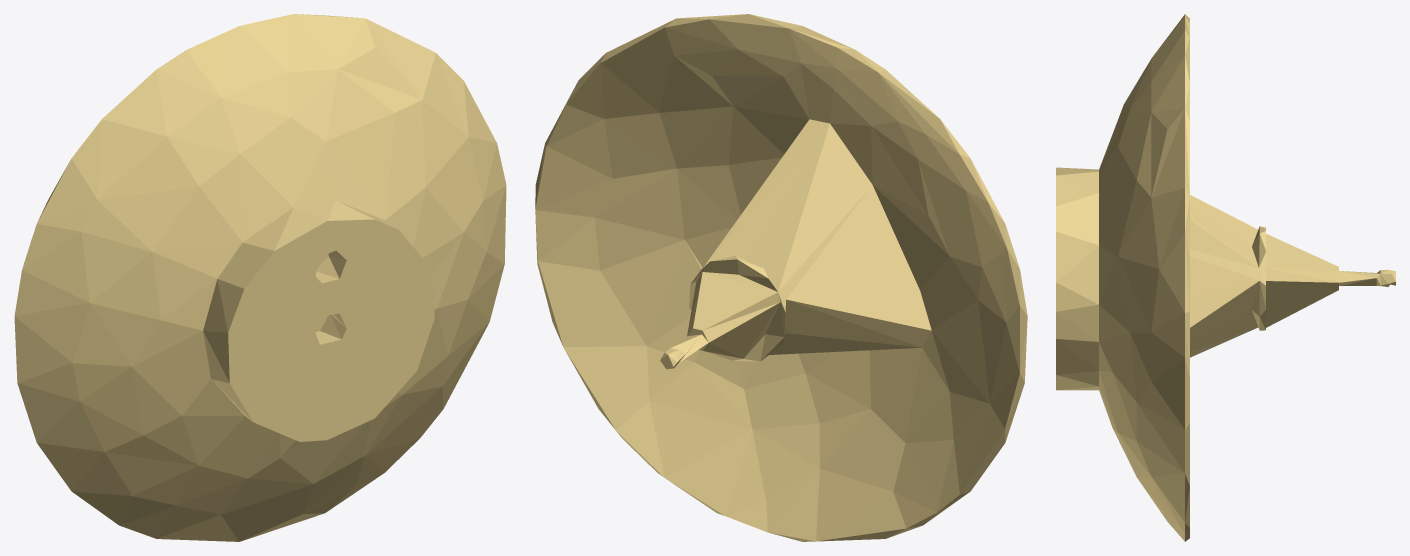
Rendered from new-horizons.glb.
3 renders of one model, left to right at view 1: azimuth 30°, elevation 25°; view 2: azimuth 150°, elevation 25°; view 3: azimuth 270°, elevation 25°, orthographic. The views are drawn at different scales.
Parts seen in each view (by area): view 1: 7399_05_rp_antenna.stl; view 2: 7399_05_rp_antenna.stl; view 3: 7399_05_rp_antenna.stl.
Boxes of the visible parts, <box> form: 7399_05_rp_antenna.stl: <box>14,14,506,541</box>; 7399_05_rp_antenna.stl: <box>535,14,1027,541</box>; 7399_05_rp_antenna.stl: <box>1056,14,1395,541</box>.
Size of the model in its own units: 4.11 by 4.12 by 2.66.
